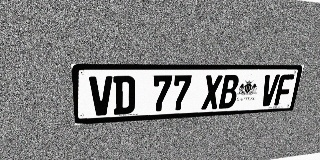7: (151, 75, 172, 113), (170, 75, 192, 111)
B: (218, 75, 240, 109)
D: (113, 76, 135, 115)
F: (274, 74, 295, 106)
V: (89, 76, 113, 116), (259, 74, 280, 106)
X: (201, 75, 223, 110)
